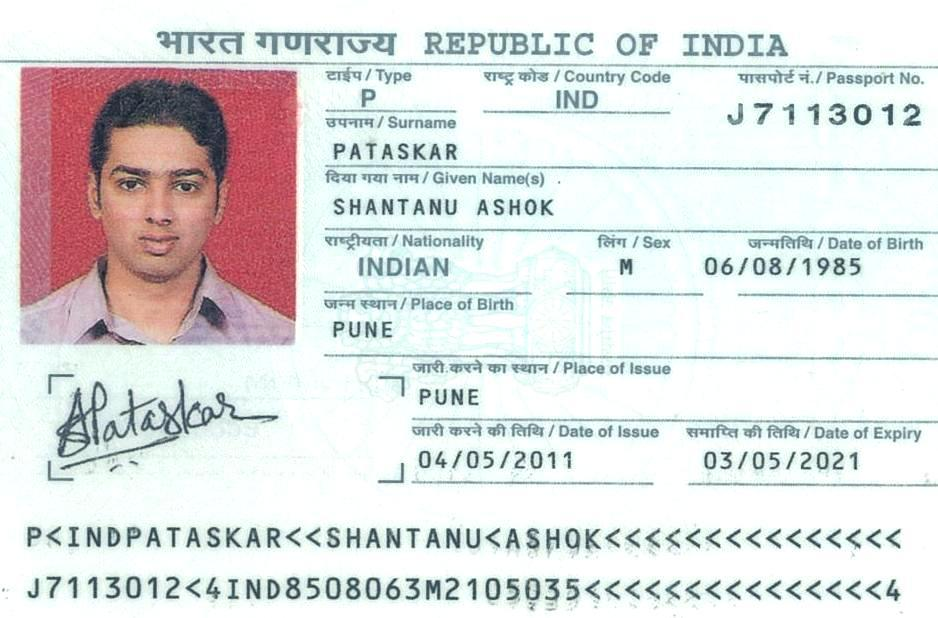DOB: (695, 251, 872, 286)
Surname: (323, 137, 459, 164)
country_code: (545, 85, 611, 114)
date_of_expiry: (698, 443, 869, 480)
date_of_issue: (415, 443, 585, 475)
details: (8, 510, 920, 610)
name: (327, 189, 558, 227)
nationality: (348, 249, 476, 286)
passport_no: (719, 97, 929, 135)
photo: (29, 71, 287, 339)
place_of_birth: (325, 314, 399, 339)
place_of_issue: (414, 384, 485, 411)
sex: (610, 259, 640, 283)
sign: (56, 370, 278, 484)
type: (355, 84, 382, 110)
